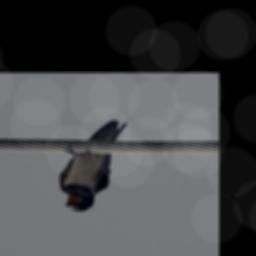Swallow: (59, 120, 128, 212)
